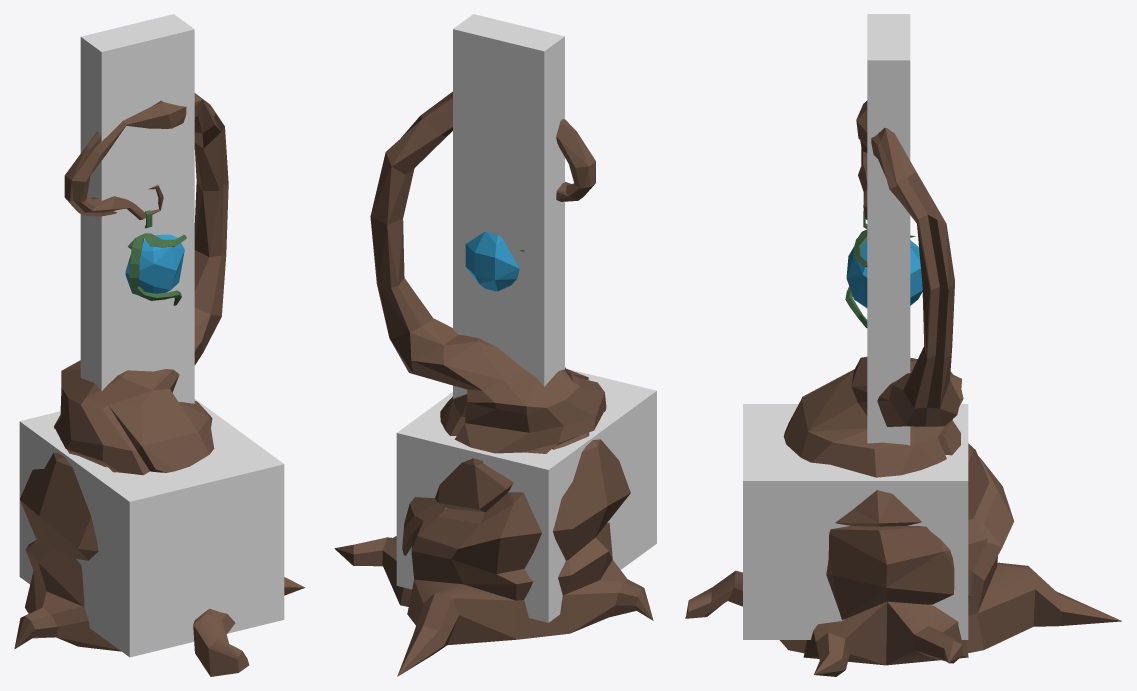
The model's file is elf_sculpture_sphere.glb.
3 renders of one model, left to right at view 1: azimuth 30°, elevation 25°; view 2: azimuth 150°, elevation 25°; view 3: azimuth 270°, elevation 25°, orthographic. The views are drawn at different scales.
Visible parts, largest first — view 1: sculpture_7, Cube.001, Cube.003; view 2: sculpture_7, Cube.003, Cube.001; view 3: sculpture_7, Cube.001, Cube.003.
Boxes of the visible parts, bbox=[...] form: sculpture_7: bbox=[14, 93, 305, 676]; Cube.001: bbox=[19, 399, 284, 657]; Cube.003: bbox=[80, 14, 194, 403]; sculpture_7: bbox=[334, 91, 653, 676]; Cube.003: bbox=[453, 14, 564, 398]; Cube.001: bbox=[396, 369, 656, 622]; sculpture_7: bbox=[685, 100, 1121, 676]; Cube.001: bbox=[743, 404, 968, 639]; Cube.003: bbox=[867, 14, 910, 445].
Size of the model in its own units: 1.96 by 3.79 by 2.56.
1 material, 1 textured.
